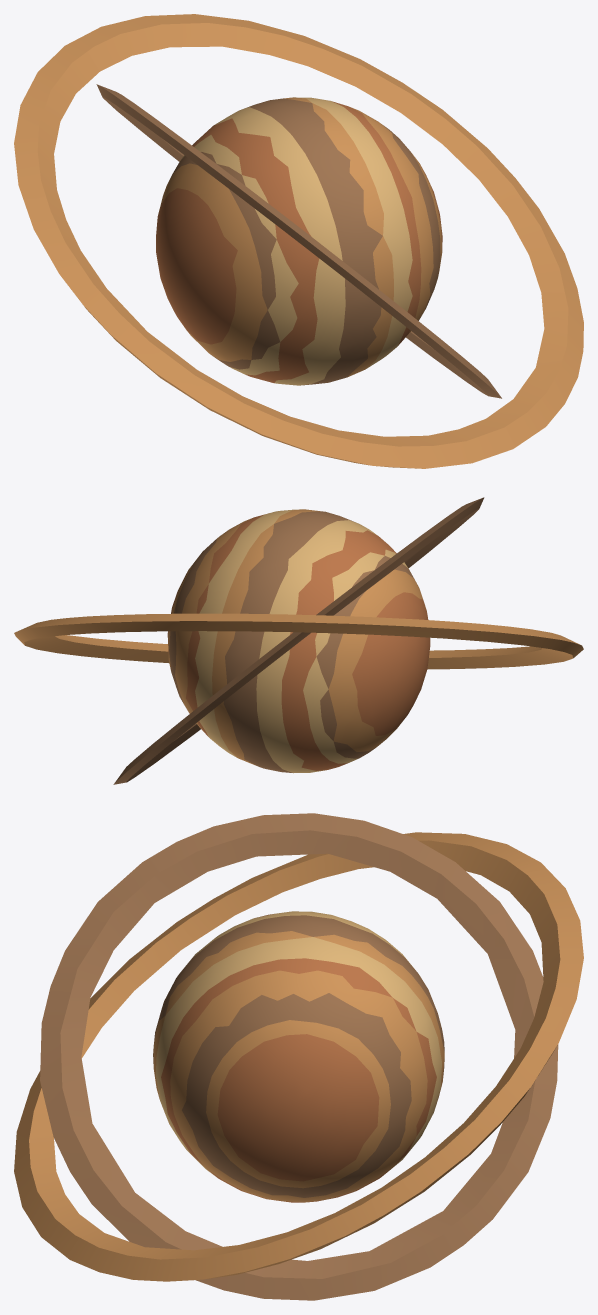
The model's file is Planet_7_Sphere.obj.
3 views of the same model, one above another, from view 1: azimuth 30°, elevation 25°; view 2: azimuth 150°, elevation 25°; view 3: azimuth 270°, elevation 25° (orthographic). The views are drawn at different scales.
Parts seen in each view (by area): view 1: Planet_7_Sphere.025; view 2: Planet_7_Sphere.025; view 3: Planet_7_Sphere.025.
Boxes of the visible parts, bbox=[...] form: Planet_7_Sphere.025: bbox=[14, 14, 583, 468]; Planet_7_Sphere.025: bbox=[14, 497, 583, 784]; Planet_7_Sphere.025: bbox=[14, 813, 583, 1300].
Bounding box in the file's own units: 4.81 × 2.87 × 4.46.
